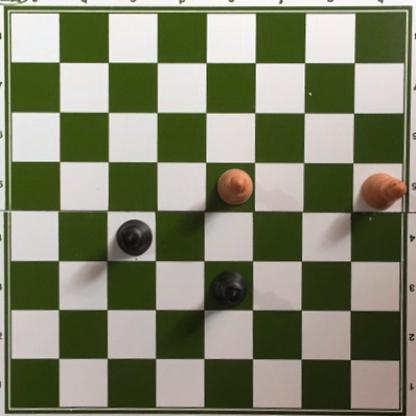black-bishop: (115, 218, 154, 259), (207, 270, 247, 308)
white-bishop: (359, 171, 408, 212), (215, 167, 254, 206)
